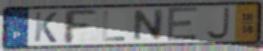E: (166, 6, 200, 44)
F: (62, 9, 99, 46)
J: (203, 6, 232, 41)
K: (33, 11, 59, 44)
L: (102, 10, 127, 43)
N: (131, 9, 166, 43)
